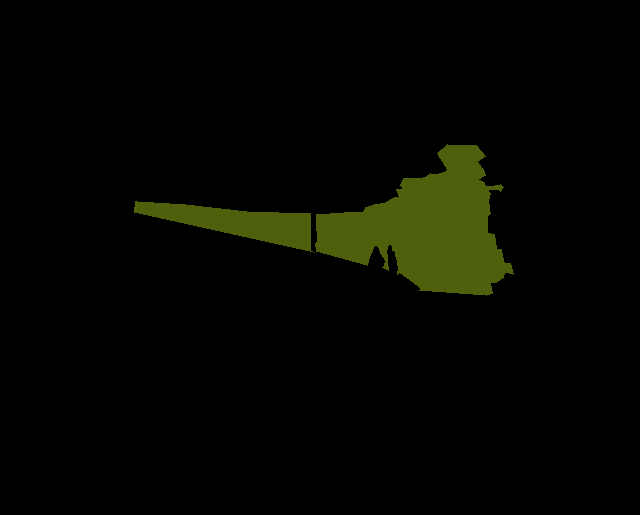Train: (134, 144, 513, 296)
